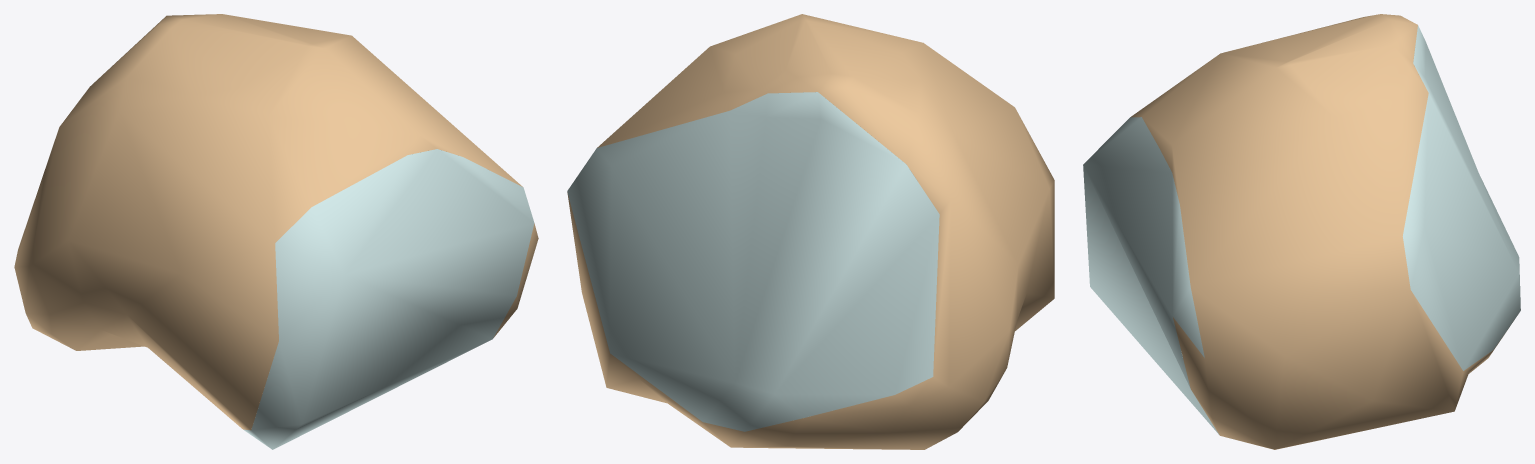
Rendered from Middle_phalanx_of_5th_finger_of_foot.l_Generated_Mesh_From_X3D..glb.
The picture shows the model from 3 angles, left to right: view 1: azimuth 30°, elevation 25°; view 2: azimuth 150°, elevation 25°; view 3: azimuth 270°, elevation 25°; orthographic projection. The views are drawn at different scales.
Parts seen in each view (by area): view 1: Middle_phalanx_of_5th_finger_of_foot.l_Generated_Mesh_From_X; view 2: Middle_phalanx_of_5th_finger_of_foot.l_Generated_Mesh_From_X; view 3: Middle_phalanx_of_5th_finger_of_foot.l_Generated_Mesh_From_X.
Boxes of the visible parts, x1,y1,x2,y2 form: Middle_phalanx_of_5th_finger_of_foot.l_Generated_Mesh_From_X: (14, 14, 538, 449); Middle_phalanx_of_5th_finger_of_foot.l_Generated_Mesh_From_X: (567, 14, 1054, 449); Middle_phalanx_of_5th_finger_of_foot.l_Generated_Mesh_From_X: (1083, 14, 1520, 449).
Bounding box in the file's own units: 0.0086 × 0.0066 × 0.00779.
